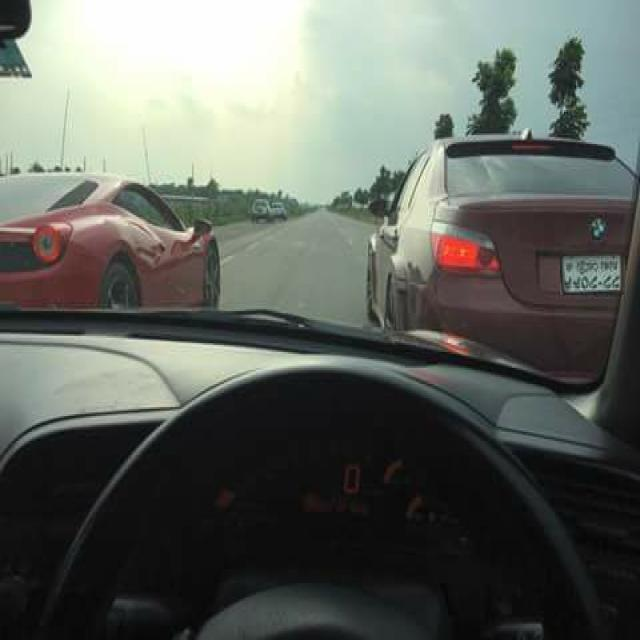numberplate: (560, 252, 625, 295)
